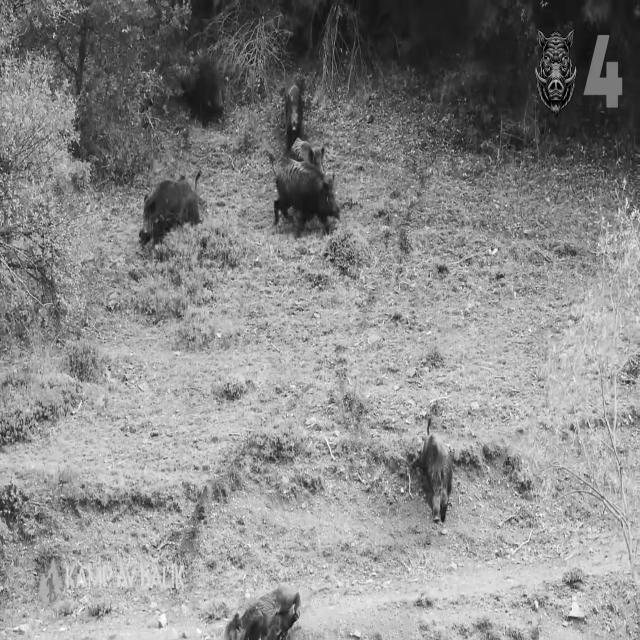boar: (274, 159, 339, 234), (139, 171, 200, 243), (224, 583, 300, 639), (421, 418, 452, 521), (286, 83, 303, 148)
